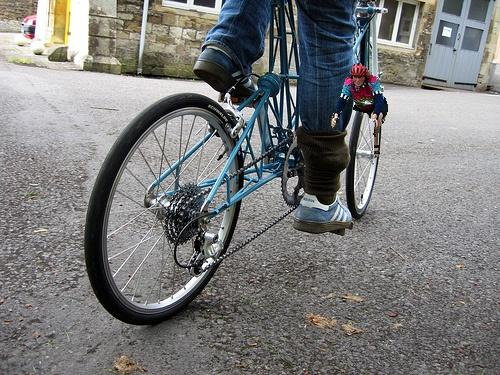tampered: (332, 64, 388, 156)
